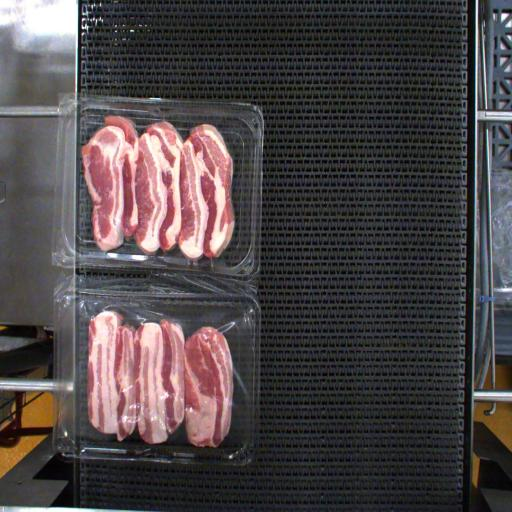unsealed: (59, 289, 253, 452)
